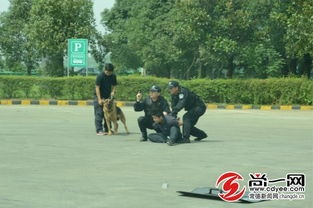falling: (135, 109, 188, 146)
